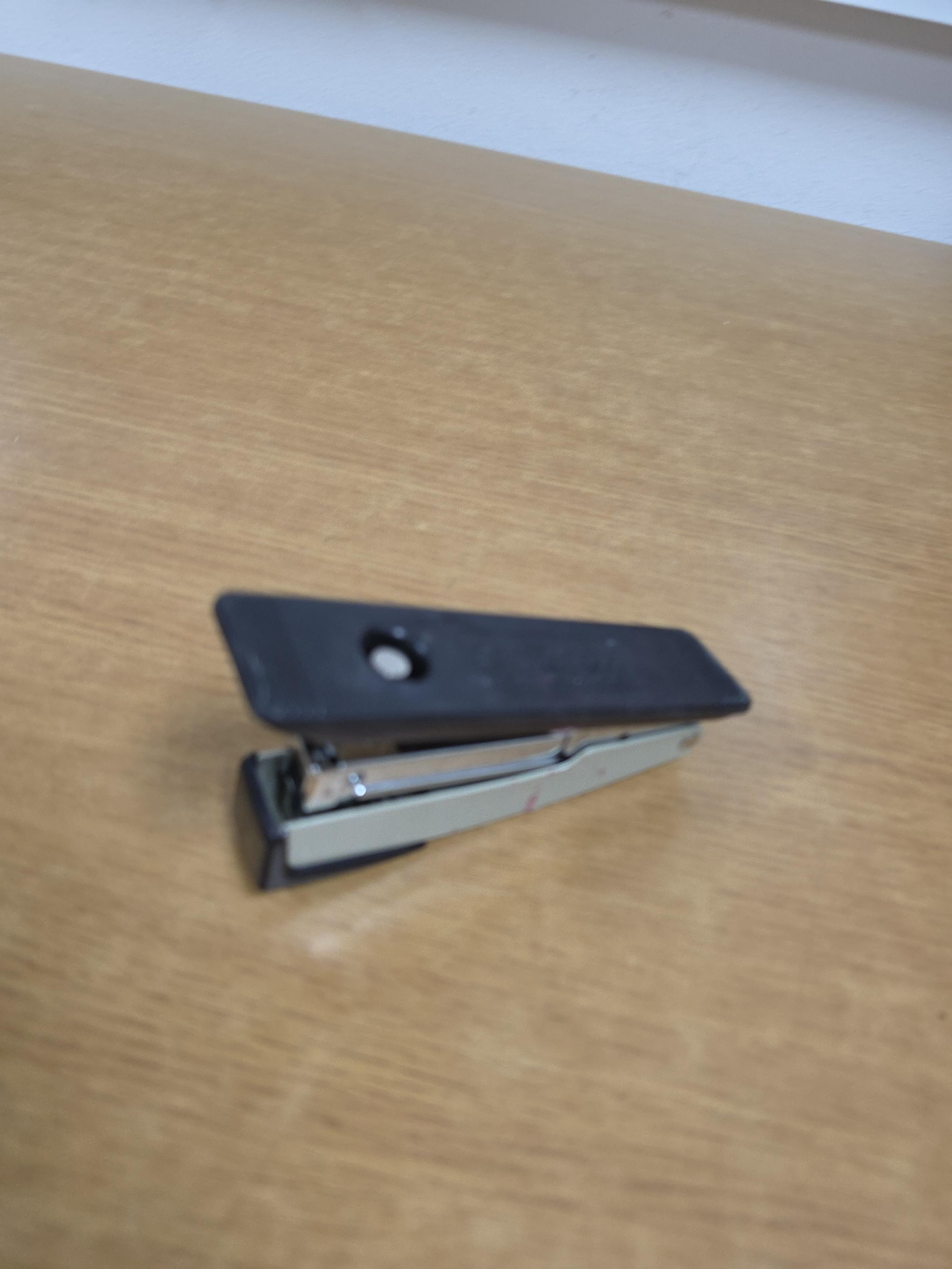stapler: (215, 590, 754, 893)
